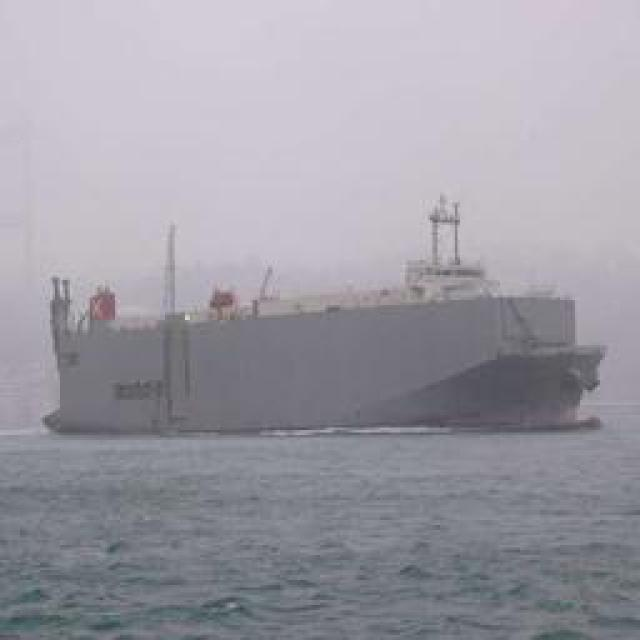Ship: (40, 290, 605, 440)
